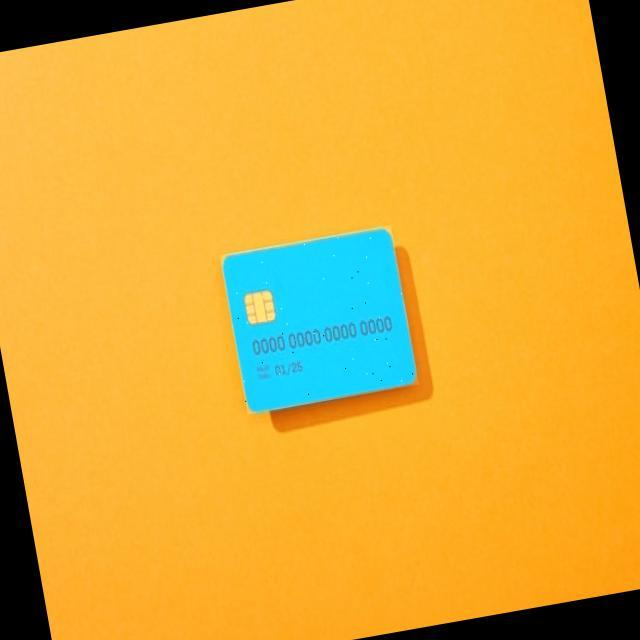payment_card: (220, 225, 418, 414)
